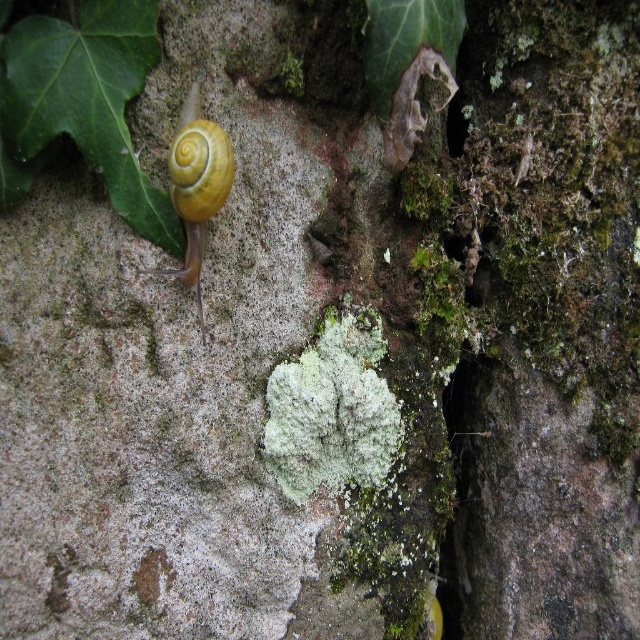Snail: (135, 78, 239, 348)
